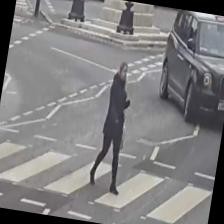person: (87, 60, 139, 195)
